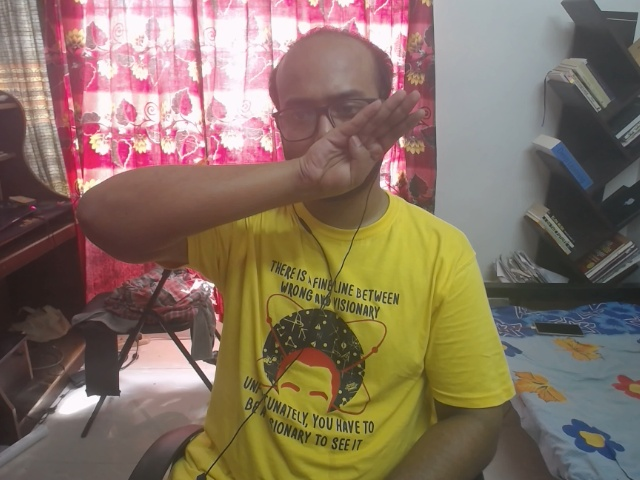counting: (287, 74, 435, 210)
